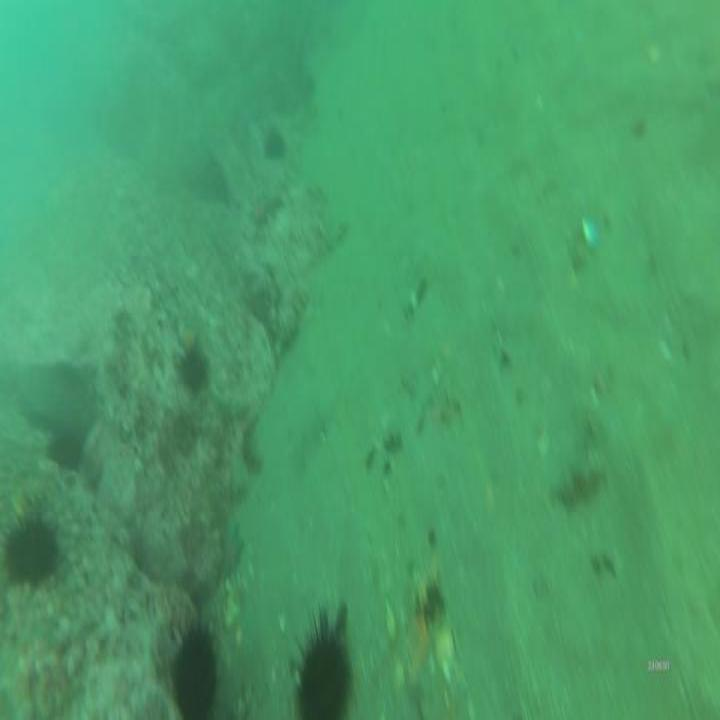echinus: (161, 606, 226, 720), (293, 613, 351, 720), (2, 510, 57, 590), (45, 419, 82, 473), (177, 350, 211, 398), (264, 119, 286, 165)
starfish: (218, 519, 248, 585)
